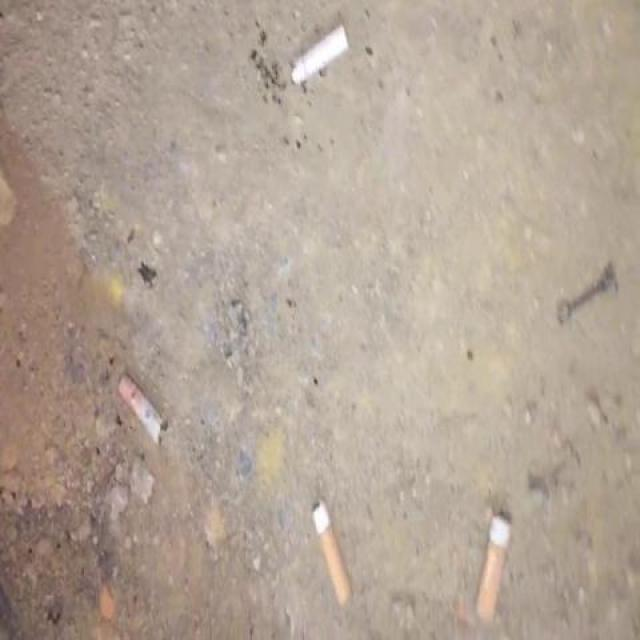non-organic waste: (308, 494, 361, 614), (470, 504, 513, 629), (115, 369, 172, 454), (285, 21, 354, 90)
